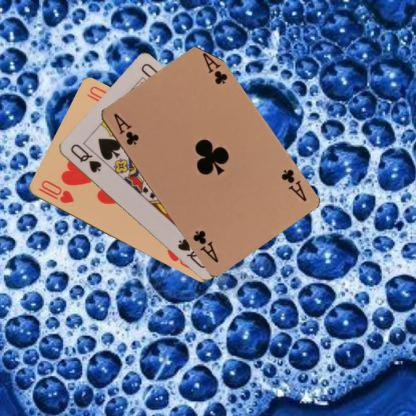10h: (35, 177, 75, 205)
Ac: (110, 110, 140, 147), (278, 166, 308, 203)
Qs: (67, 141, 103, 174)
